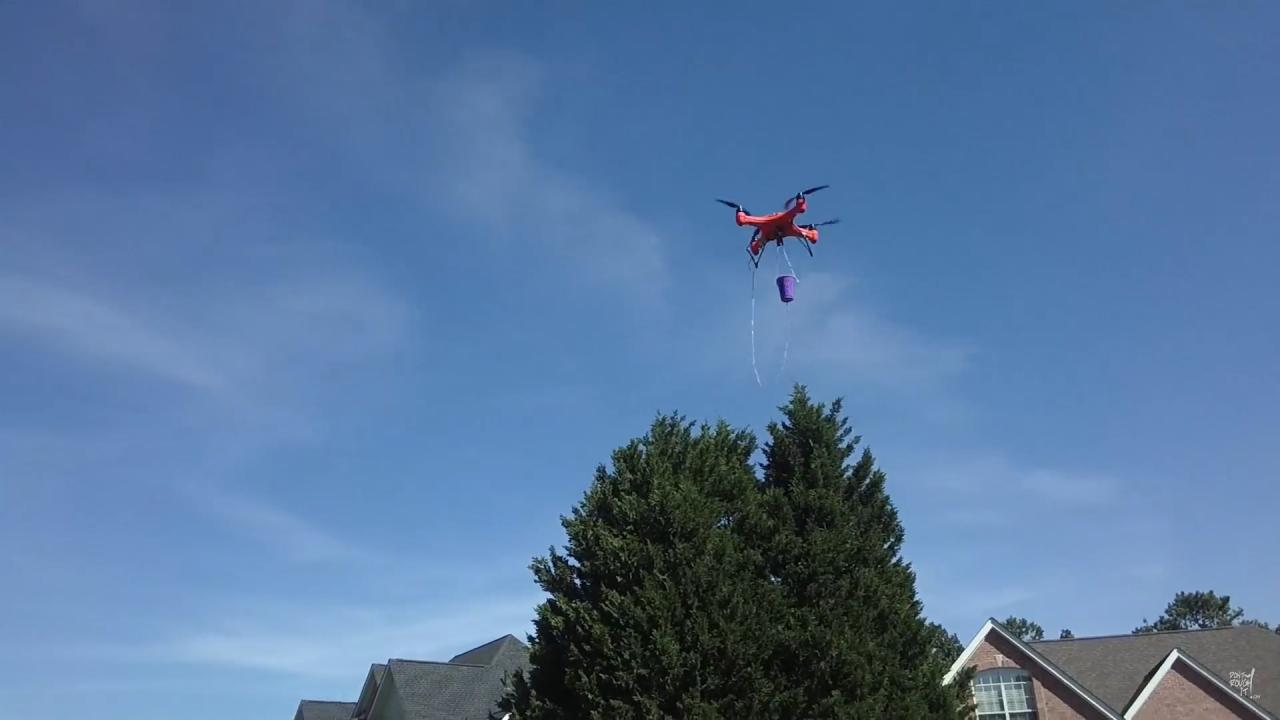Drone: (702, 172, 856, 276)
